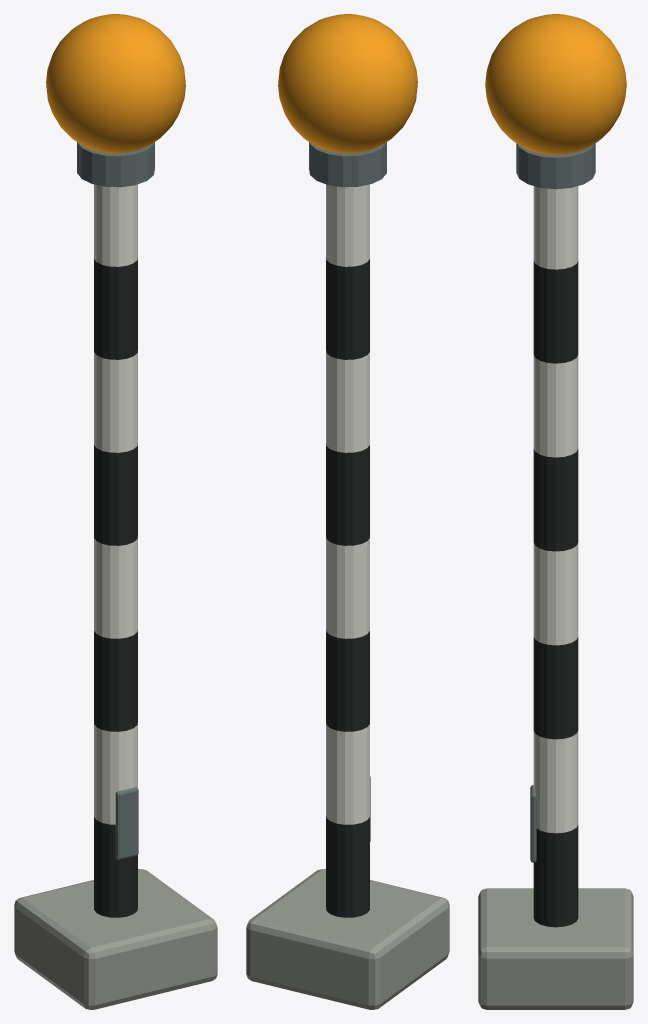
File: zebra-crossing-beacon.glb
3 renders of one model, left to right at view 1: azimuth 30°, elevation 25°; view 2: azimuth 150°, elevation 25°; view 3: azimuth 270°, elevation 25°, orthographic.
Parts seen in each view (by area): view 1: BASE_Footing, BEACON_AmberGlobe, POLE_Band_2, POLE_Band_3, POLE_Band_4, POLE_Band_5, POLE_Band_6, POLE_Band_7, POLE_Band_1, POLE_Band_0, COLLAR_Globe, HATCH_Service; view 2: BASE_Footing, BEACON_AmberGlobe, POLE_Band_0, POLE_Band_1, POLE_Band_2, POLE_Band_3, POLE_Band_4, POLE_Band_5, POLE_Band_6, POLE_Band_7, COLLAR_Globe; view 3: BASE_Footing, BEACON_AmberGlobe, POLE_Band_2, POLE_Band_3, POLE_Band_5, POLE_Band_6, POLE_Band_4, POLE_Band_1, POLE_Band_0, POLE_Band_7, COLLAR_Globe, HATCH_Service.
Boxes of the visible parts, x1=… form: BASE_Footing: x1=14, y1=869, x2=217, y2=1009; BEACON_AmberGlobe: x1=46, y1=14, x2=185, y2=153; POLE_Band_2: x1=94, y1=630, x2=137, y2=731; POLE_Band_3: x1=94, y1=537, x2=137, y2=638; POLE_Band_4: x1=94, y1=444, x2=137, y2=545; POLE_Band_5: x1=94, y1=351, x2=137, y2=452; POLE_Band_6: x1=94, y1=258, x2=137, y2=359; POLE_Band_7: x1=94, y1=184, x2=137, y2=266; POLE_Band_1: x1=94, y1=723, x2=137, y2=824; POLE_Band_0: x1=94, y1=817, x2=137, y2=917; COLLAR_Globe: x1=77, y1=142, x2=154, y2=187; HATCH_Service: x1=115, y1=787, x2=138, y2=859; BASE_Footing: x1=246, y1=869, x2=449, y2=1009; BEACON_AmberGlobe: x1=278, y1=14, x2=417, y2=153; POLE_Band_0: x1=326, y1=816, x2=369, y2=917; POLE_Band_1: x1=326, y1=723, x2=369, y2=824; POLE_Band_2: x1=326, y1=630, x2=369, y2=731; POLE_Band_3: x1=326, y1=537, x2=369, y2=638; POLE_Band_4: x1=326, y1=444, x2=369, y2=545; POLE_Band_5: x1=326, y1=351, x2=369, y2=452; POLE_Band_6: x1=326, y1=258, x2=369, y2=359; POLE_Band_7: x1=326, y1=184, x2=369, y2=266; COLLAR_Globe: x1=309, y1=142, x2=386, y2=187; BASE_Footing: x1=478, y1=888, x2=633, y2=1009; BEACON_AmberGlobe: x1=485, y1=14, x2=626, y2=154; POLE_Band_2: x1=533, y1=637, x2=578, y2=739; POLE_Band_3: x1=533, y1=543, x2=578, y2=645; POLE_Band_5: x1=533, y1=355, x2=578, y2=457; POLE_Band_6: x1=533, y1=261, x2=578, y2=363; POLE_Band_4: x1=533, y1=449, x2=578, y2=551; POLE_Band_1: x1=533, y1=731, x2=578, y2=833; POLE_Band_0: x1=533, y1=825, x2=578, y2=927; POLE_Band_7: x1=533, y1=186, x2=578, y2=269; COLLAR_Globe: x1=516, y1=143, x2=595, y2=189; HATCH_Service: x1=530, y1=785, x2=536, y2=862.
Size of the model in its own units: 0.45 by 3.06 by 0.45.
